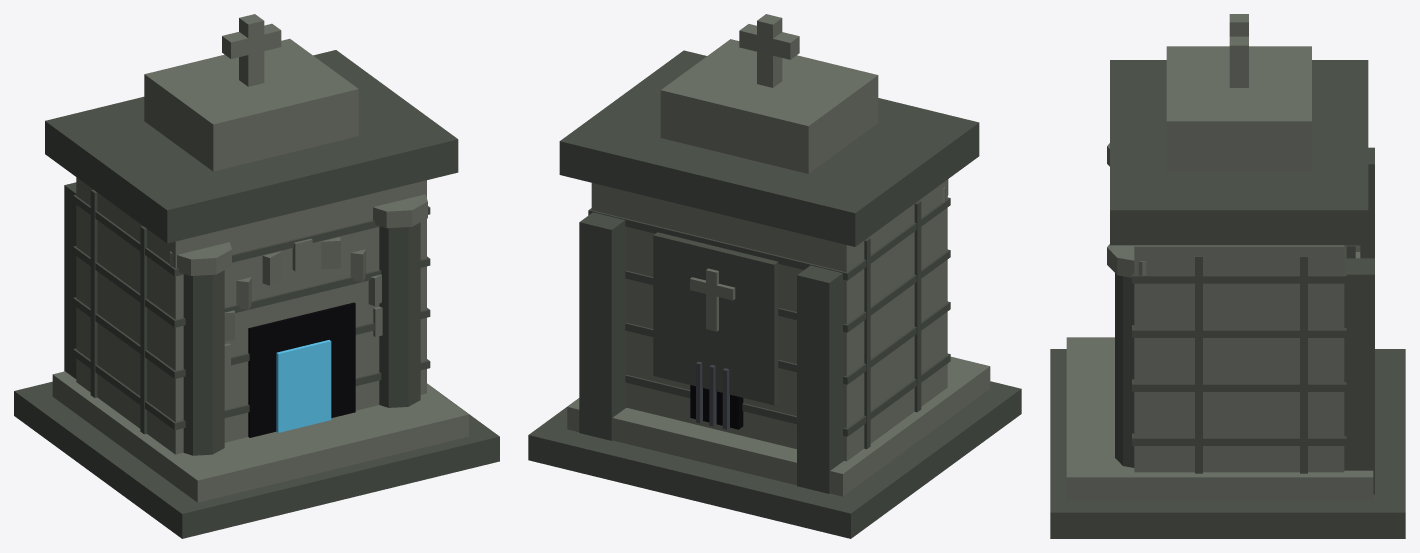
The model's file is crypt_entrance.obj.
3 views of the same model, side by side, from view 1: azimuth 30°, elevation 25°; view 2: azimuth 150°, elevation 25°; view 3: azimuth 270°, elevation 25° (orthographic). The views are drawn at different scales.
Parts seen in each view (by area): view 1: crypt_entrance; view 2: crypt_entrance; view 3: crypt_entrance.
Part boxes in pixels (box(x1,y1,x2,y2)): crypt_entrance: box(14, 14, 499, 538); crypt_entrance: box(528, 14, 1021, 538); crypt_entrance: box(1050, 14, 1405, 538).
Size of the model in its own units: 2.4 by 3 by 2.2.
